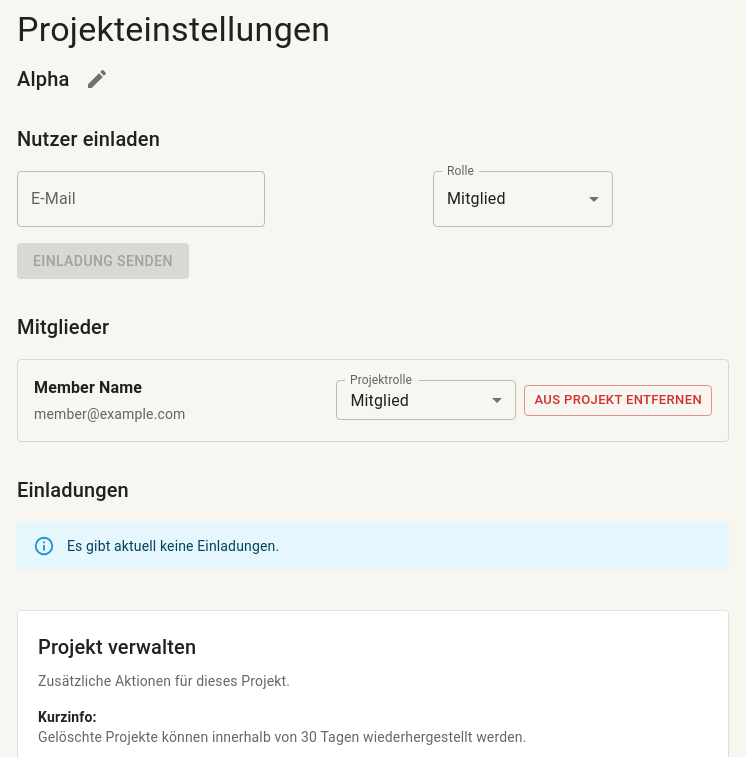
Test: ProjectSettingsPage › shows a warning alert when invitation mail delivery fails
This screenshot has width=746, height=757.
Type "invitee@example.com" into the field labelled "E-Mail" at (141, 199), box top-left (17, 171), bottom-right (265, 227)
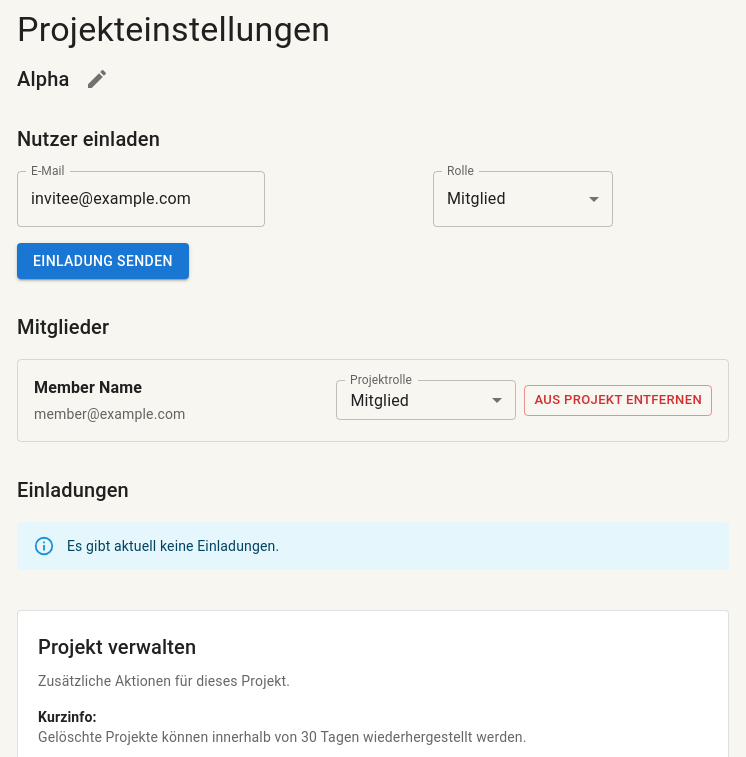
Click the button "Einladung senden" at (103, 261), box top-left (17, 243), bottom-right (189, 280)
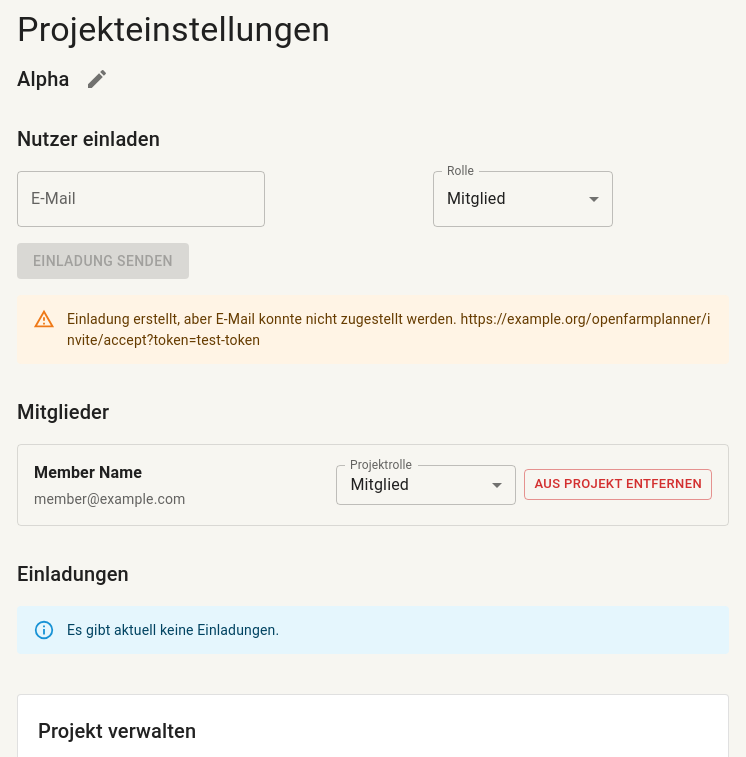
Result: the text "Einladung erstellt, aber E-Mail konnte nicht zugestellt werden." is shown at top-left (67, 312), bottom-right (710, 348)
